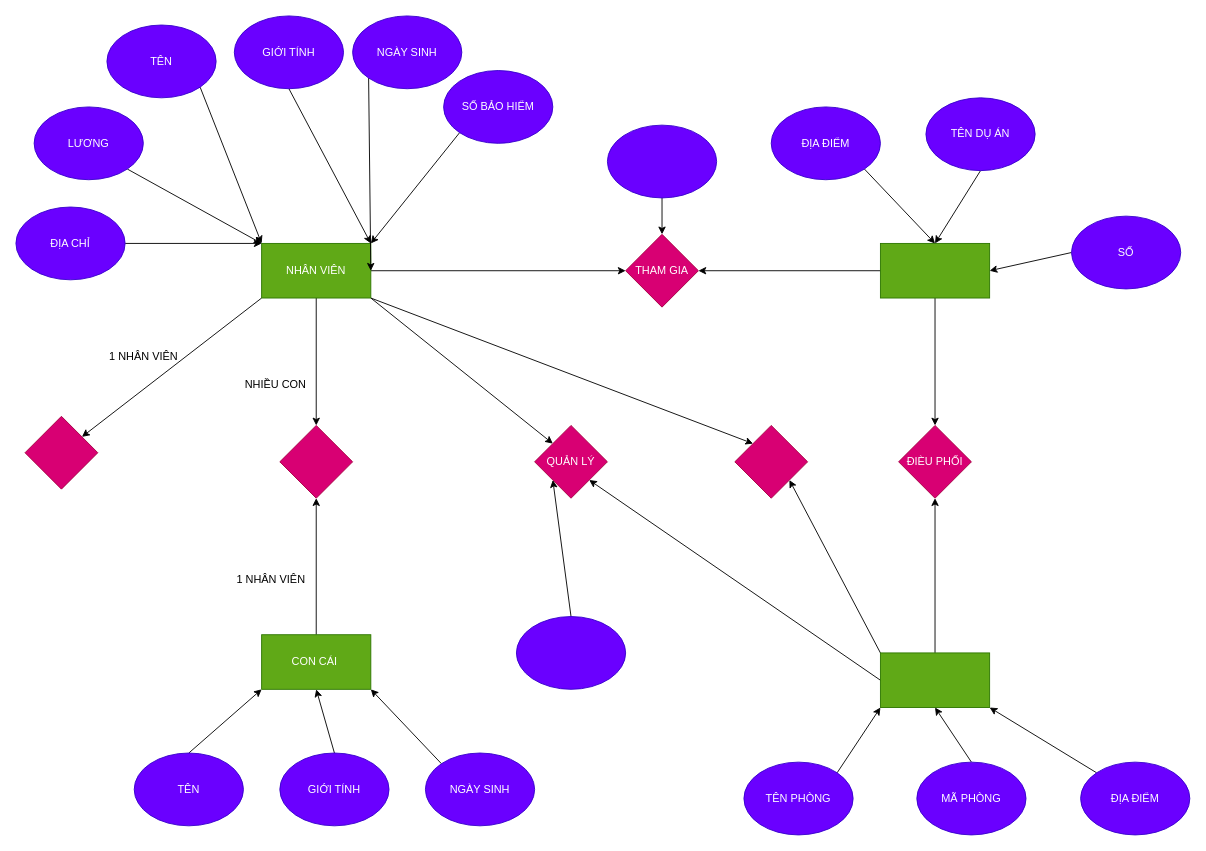
This 1206x851 diagram has some shape labels left out. The centre of each missing label's shape, as x and y in pixels:
CÓ CON: the point at 316,461
DỰ ÁN: the point at 935,270
LÀM VIỆC: the point at 771,461
LÃNH ĐẠO: the point at 61,452
NGÀY BẮT ĐẦU: the point at 571,652
PHÒNG BAN: the point at 935,680
SỐ GIỜ: the point at 662,161
